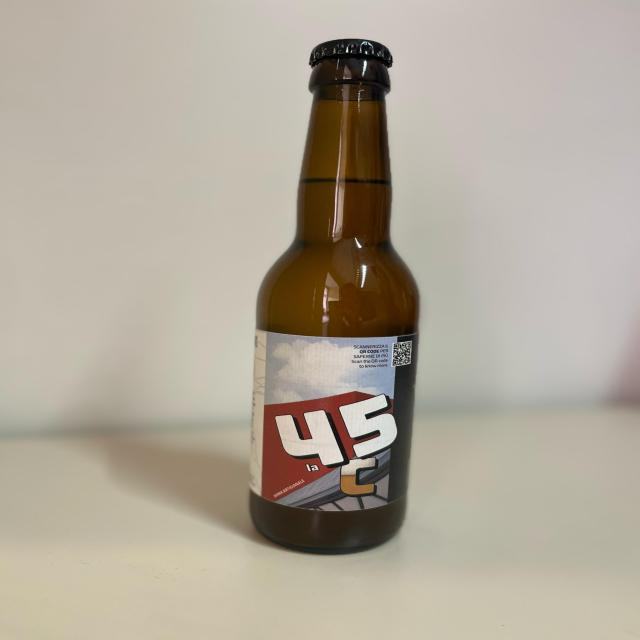Bottle: (250, 62, 416, 559)
Cap: (298, 38, 406, 66)
Label: (255, 329, 415, 511)
